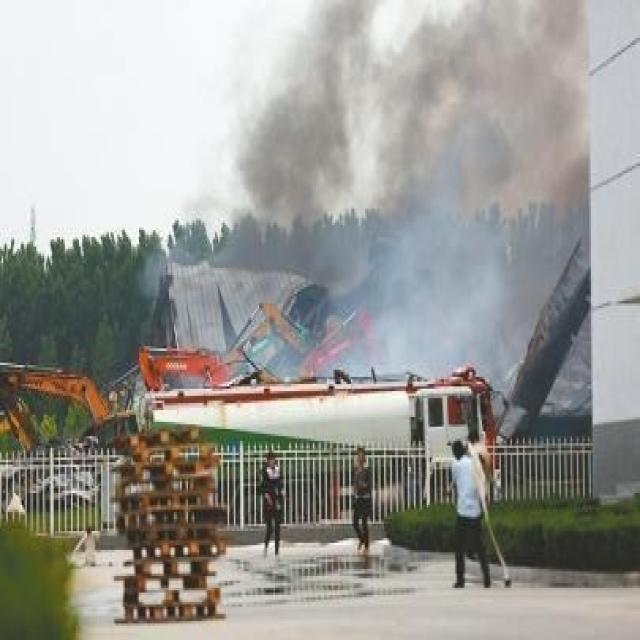Smoke: (135, 2, 590, 382)
